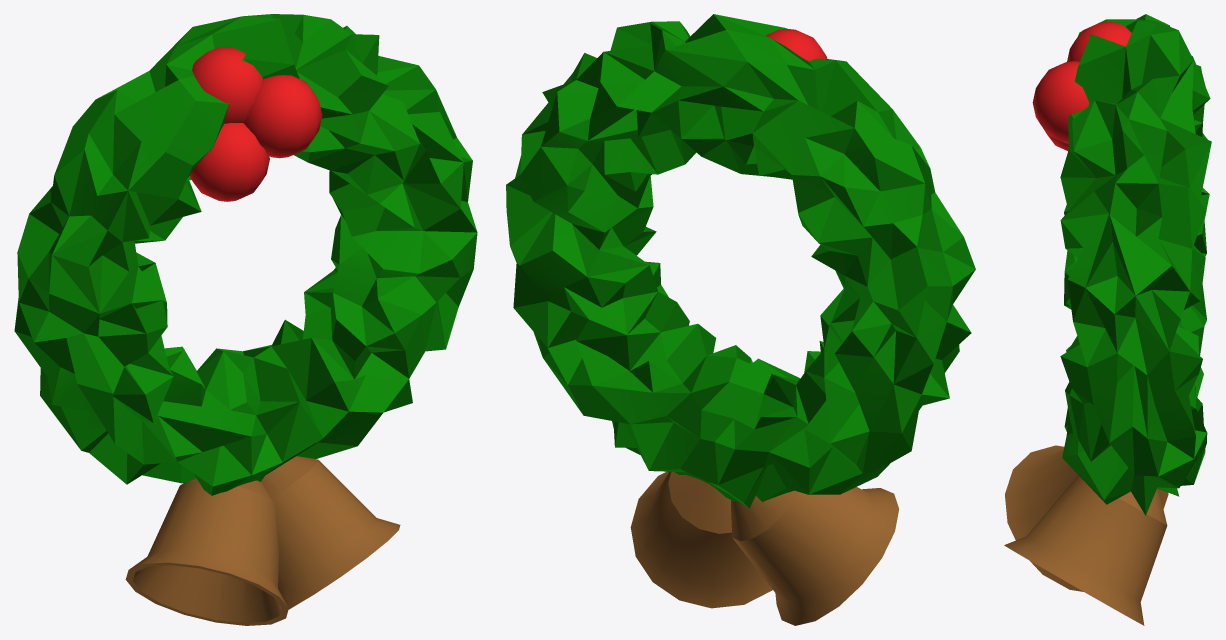
File: Krans-1.glb
The picture shows the model from 3 angles, left to right: view 1: azimuth 30°, elevation 25°; view 2: azimuth 150°, elevation 25°; view 3: azimuth 270°, elevation 25°; orthographic projection. The views are drawn at different scales.
Visible parts, largest first — view 1: Krans-1.002, Cylinder.279, Cylinder.278, Sphere.034, Sphere.035, Sphere.036; view 2: Krans-1.002, Cylinder.279, Cylinder.278, Sphere.036; view 3: Krans-1.002, Cylinder.278, Cylinder.279, Sphere.034, Sphere.036.
Boxes of the visible parts, left/top/right/bottom form: Krans-1.002: left=14, top=14, right=477, bottom=495; Cylinder.279: left=125, top=478, right=288, bottom=625; Cylinder.278: left=261, top=456, right=400, bottom=618; Sphere.034: left=243, top=75, right=322, bottom=158; Sphere.035: left=190, top=123, right=269, bottom=201; Sphere.036: left=192, top=47, right=262, bottom=123; Krans-1.002: left=506, top=14, right=975, bottom=508; Cylinder.279: left=731, top=487, right=898, bottom=625; Cylinder.278: left=630, top=471, right=772, bottom=608; Sphere.036: left=766, top=28, right=827, bottom=61; Krans-1.002: left=1060, top=14, right=1211, bottom=515; Cylinder.278: left=1004, top=475, right=1167, bottom=625; Cylinder.279: left=1005, top=445, right=1168, bottom=591; Sphere.034: left=1032, top=61, right=1089, bottom=143; Sphere.036: left=1067, top=21, right=1131, bottom=61.
Size of the model in its own units: 1.37 by 1.75 by 0.5764.
